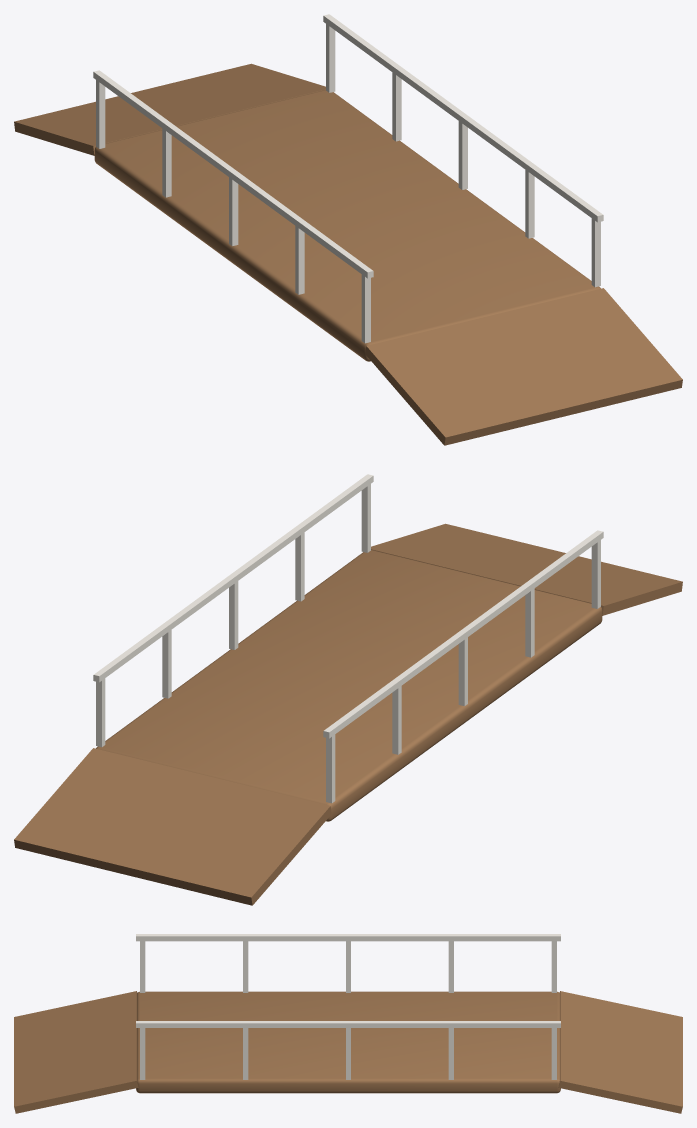
File: puente_peatonal.fbx
The picture shows the model from 3 angles, top to bottom: view 1: azimuth 30°, elevation 25°; view 2: azimuth 150°, elevation 25°; view 3: azimuth 270°, elevation 25°; orthographic projection. The views are drawn at different scales.
Parts seen in each view (by area): view 1: wood, wood_03, wood_02, white, white_07, white_12, white_09, white_10, white_11, white_08, white_06, white_02 (+3 smaller); view 2: wood, wood_02, wood_03, white, white_07, white_08, white_02, white_09, white_10, white_04, white_11, white_03 (+3 smaller); view 3: wood, wood_02, wood_03, white, white_07, white_06, white_05, white_02, white_03, white_11, white_12, white_09 (+1 smaller).
Boxes of the visible parts, x1,y1,x2,y2 form: wood: (94, 90, 600, 361); wood_03: (365, 288, 682, 445); wood_02: (14, 63, 325, 155); white: (93, 70, 373, 278); white_07: (323, 14, 603, 222); white_12: (591, 215, 600, 287); white_09: (392, 69, 401, 141); white_10: (458, 119, 467, 189); white_11: (525, 167, 534, 238); white_08: (326, 21, 335, 92); white_06: (361, 274, 370, 343); white_02: (96, 78, 105, 148); wood: (96, 550, 602, 821); wood_02: (14, 748, 331, 905); wood_03: (371, 523, 682, 615); white: (323, 530, 603, 738); white_07: (93, 474, 373, 682); white_08: (96, 675, 105, 747); white_02: (326, 732, 335, 803); white_09: (162, 627, 171, 698); white_10: (229, 579, 238, 649); white_04: (458, 635, 467, 706); white_11: (295, 530, 304, 601); white_03: (392, 686, 401, 754); wood: (136, 991, 560, 1093); wood_02: (558, 991, 682, 1113); wood_03: (14, 991, 138, 1113); white: (136, 934, 560, 941); white_07: (136, 1021, 560, 1027); white_06: (140, 938, 145, 992); white_05: (243, 938, 248, 992); white_02: (551, 938, 556, 992); white_03: (448, 938, 453, 992); white_11: (243, 1026, 248, 1079); white_12: (140, 1026, 145, 1079); white_09: (448, 1026, 453, 1079).
Bounding box in the file's own units: 3.2 × 1.5 × 10.08.
